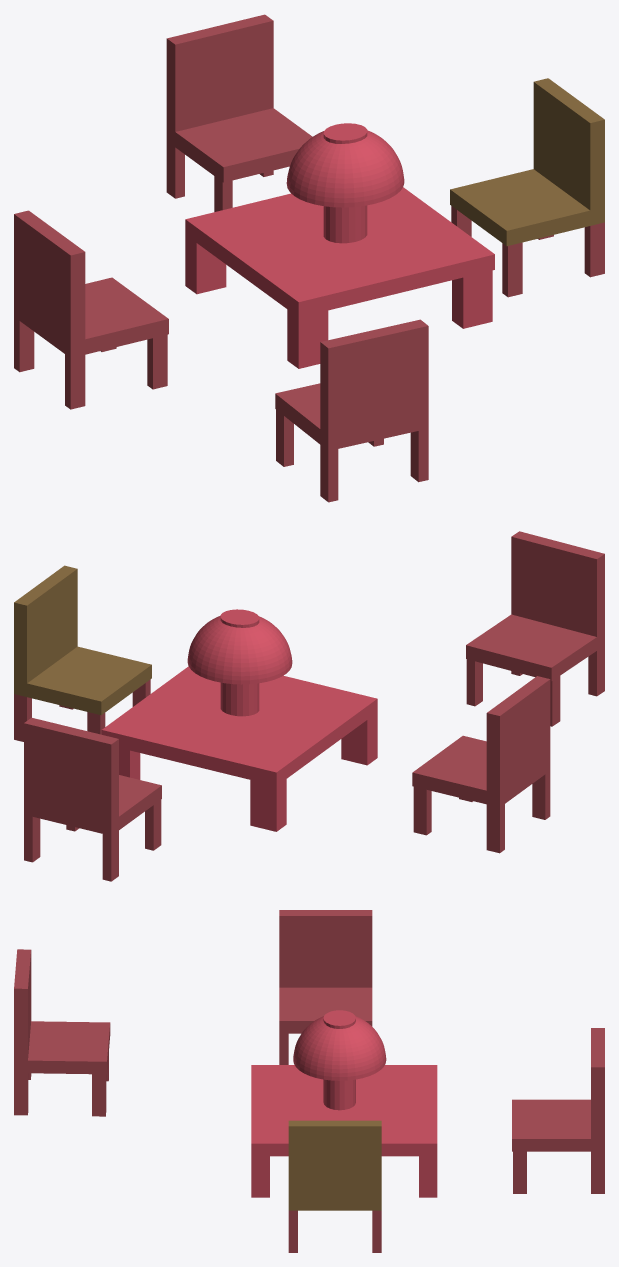
Rendered from Super Jaiks.glb.
The picture shows the model from 3 angles, top to bottom: view 1: azimuth 30°, elevation 25°; view 2: azimuth 150°, elevation 25°; view 3: azimuth 270°, elevation 25°; orthographic projection. The views are drawn at different scales.
Visible parts, largest first — view 1: Mesh_Mesh_head_geo.001_lambert2SG.001; view 2: Mesh_Mesh_head_geo.001_lambert2SG.001; view 3: Mesh_Mesh_head_geo.001_lambert2SG.001.
Boxes of the visible parts, bbox=[...] form: Mesh_Mesh_head_geo.001_lambert2SG.001: bbox=[14, 14, 604, 502]; Mesh_Mesh_head_geo.001_lambert2SG.001: bbox=[14, 531, 604, 881]; Mesh_Mesh_head_geo.001_lambert2SG.001: bbox=[14, 910, 604, 1252].
Bounding box in the file's own units: 110 × 34 × 127.
